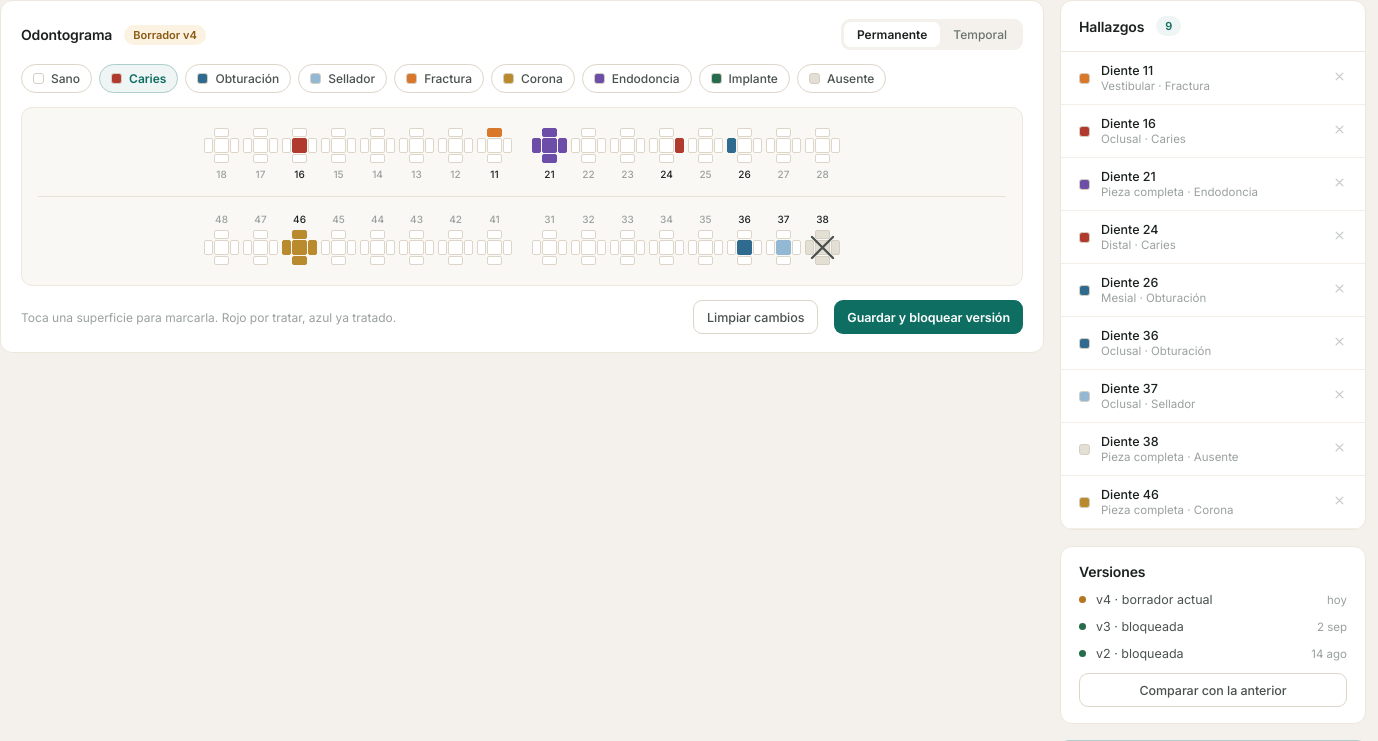
Test: <Odontogram /> › removes a finding from the panel
The width and height of the screenshot is (1378, 741).
Click the button named "Quitar Diente 16, Oclusal · Caries".
click(1340, 131)  # box [1332,121,1347,141]
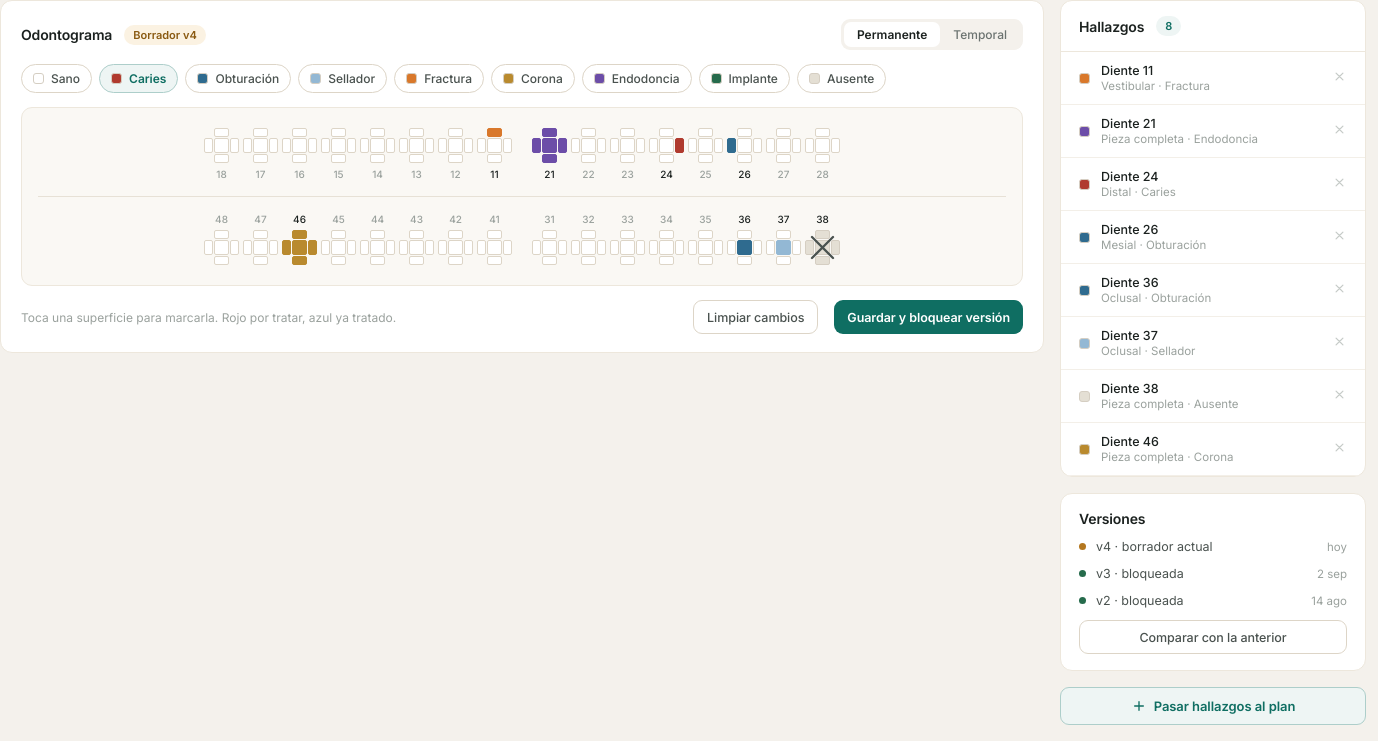
Now the text "Oclusal · Caries" is gone
